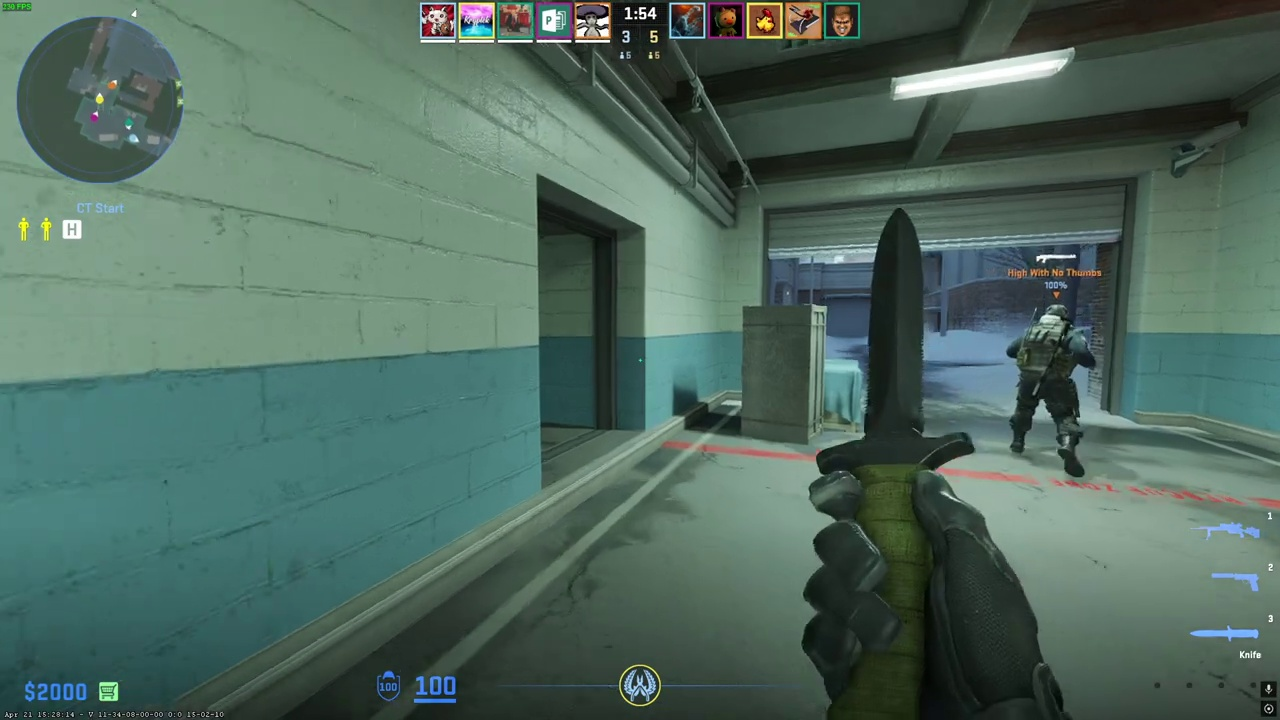CT: (1009, 303, 1095, 476)
